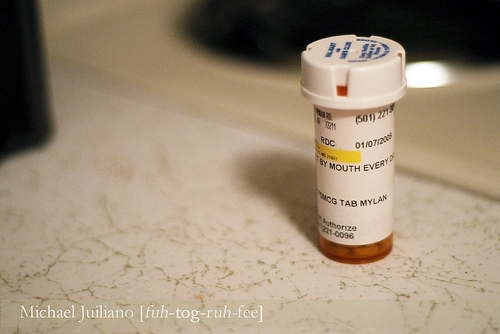pill bottle: (299, 32, 407, 265)
